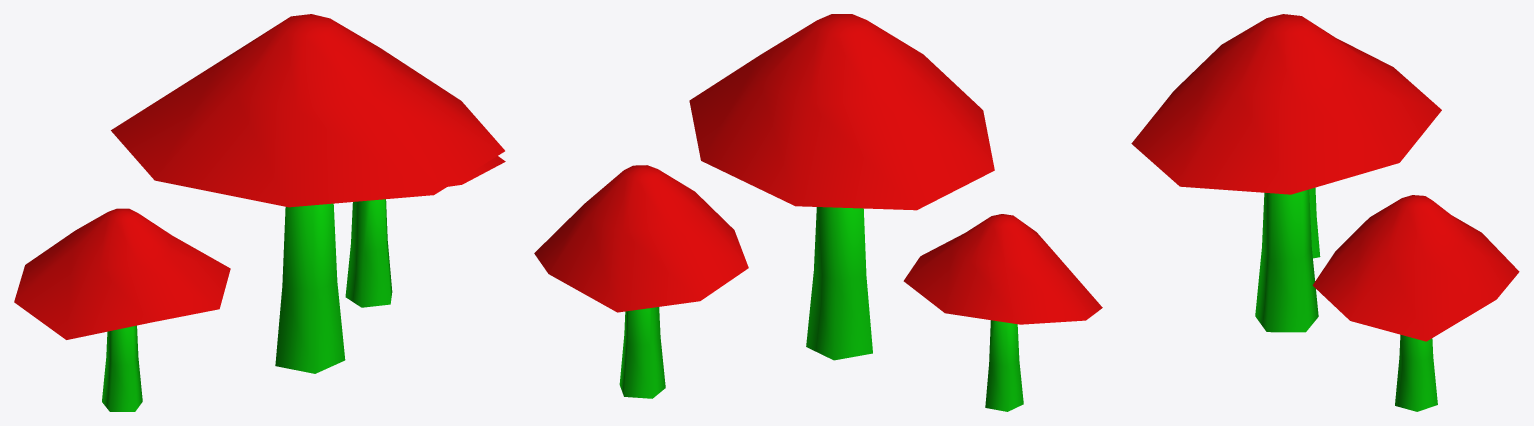
The model's file is Mushroom_Capped.fbx.
The picture shows the model from 3 angles, left to right: view 1: azimuth 30°, elevation 25°; view 2: azimuth 150°, elevation 25°; view 3: azimuth 270°, elevation 25°; orthographic projection. The views are drawn at different scales.
Visible parts, largest first — view 1: Mushroom_03; view 2: Mushroom_03; view 3: Mushroom_03.
Part boxes in pixels (x1,y1,x2,y2): Mushroom_03: (14,14,505,411); Mushroom_03: (534,14,1102,411); Mushroom_03: (1131,14,1519,411).
Bounding box in the file's own units: 58.23 × 42.73 × 39.15.
